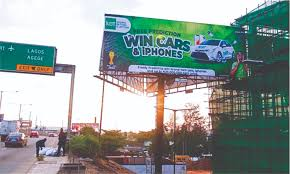Billboard: (100, 14, 242, 81)
